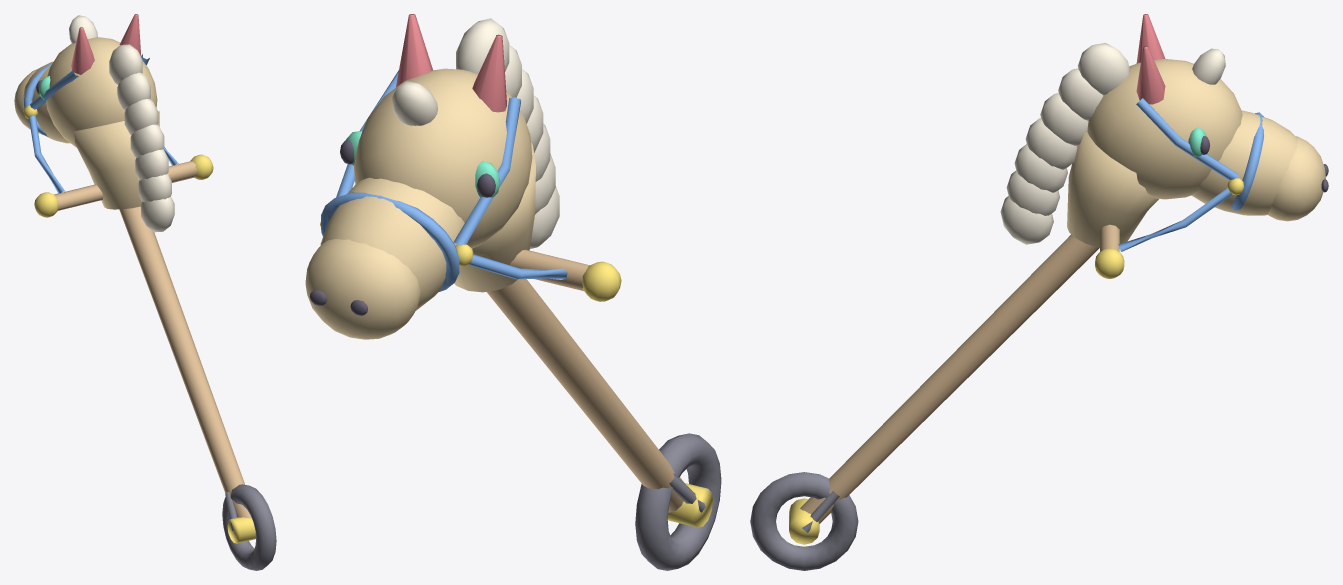
The model's file is RockinRacewayHorse.glb.
3 views of the same model, side by side, from view 1: azimuth 30°, elevation 25°; view 2: azimuth 150°, elevation 25°; view 3: azimuth 270°, elevation 25° (orthographic). The views are drawn at different scales.
Visible parts, largest first — view 1: Body, Stick, Mane, Wheel, Studs, Bridle, Ears; view 2: Body, Stick, Mane, Wheel, Bridle, Ears, Studs, Pupils, Eyes; view 3: Body, Mane, Stick, Wheel, Bridle, Studs, Ears.
Part boxes in pixels (x1=…): Body: x1=14, y1=37, x2=159, y2=209; Stick: x1=54, y1=161, x2=251, y2=518; Mane: x1=69, y1=15, x2=174, y2=232; Wheel: x1=222, y1=484, x2=276, y2=570; Studs: x1=23, y1=105, x2=255, y2=543; Bridle: x1=24, y1=54, x2=178, y2=193; Ears: x1=71, y1=14, x2=141, y2=74; Body: x1=305, y1=68, x2=535, y2=339; Stick: x1=487, y1=249, x2=685, y2=512; Mane: x1=392, y1=18, x2=559, y2=248; Wheel: x1=635, y1=433, x2=721, y2=570; Bridle: x1=321, y1=70, x2=567, y2=292; Ears: x1=396, y1=14, x2=506, y2=112; Studs: x1=320, y1=222, x2=712, y2=527; Pupils: x1=309, y1=140, x2=495, y2=315; Eyes: x1=345, y1=131, x2=500, y2=197; Body: x1=1067, y1=59, x2=1325, y2=247; Mane: x1=1000, y1=43, x2=1225, y2=244; Stick: x1=800, y1=224, x2=1119, y2=523; Wheel: x1=750, y1=472, x2=858, y2=570; Bridle: x1=1118, y1=98, x2=1263, y2=251; Studs: x1=789, y1=178, x2=1243, y2=544; Ears: x1=1136, y1=14, x2=1165, y2=104.
Size of the model in its own units: 1.92 by 4.62 by 4.49.
